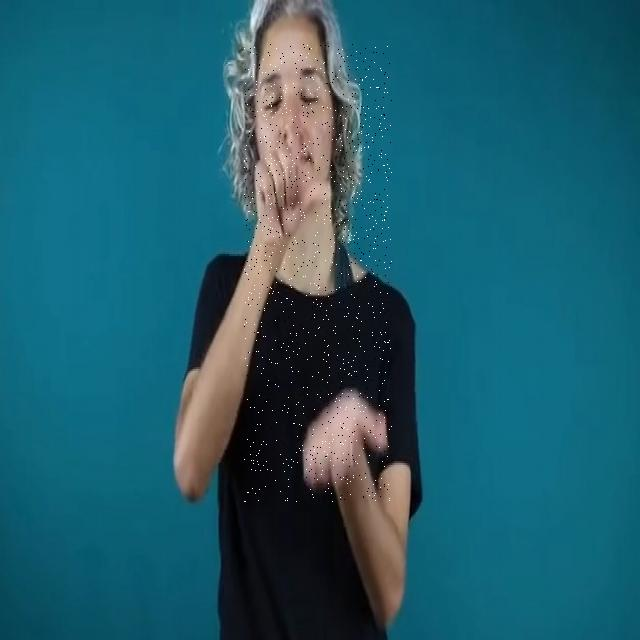chicken: (244, 44, 392, 502)
